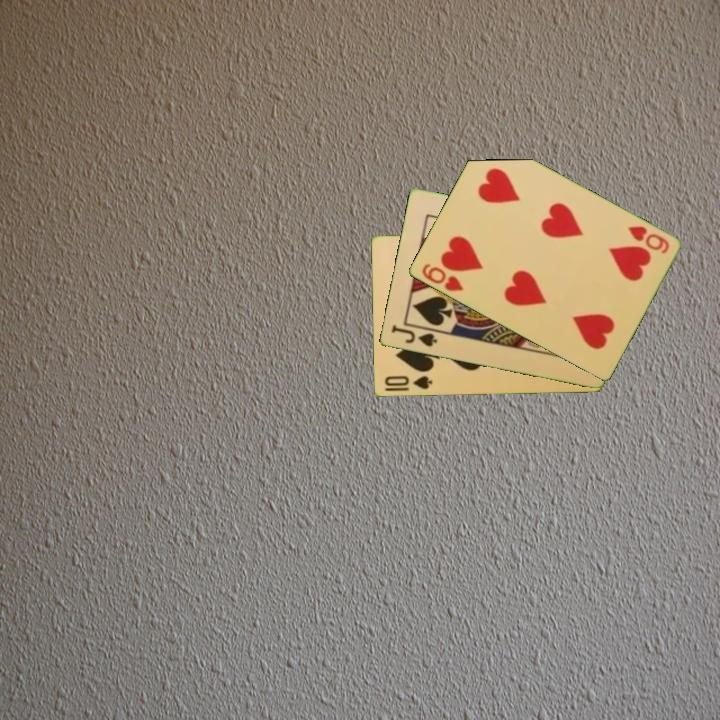10s: (381, 373, 435, 393)
6h: (624, 222, 672, 257), (418, 260, 466, 294)
Js: (387, 321, 440, 350)
